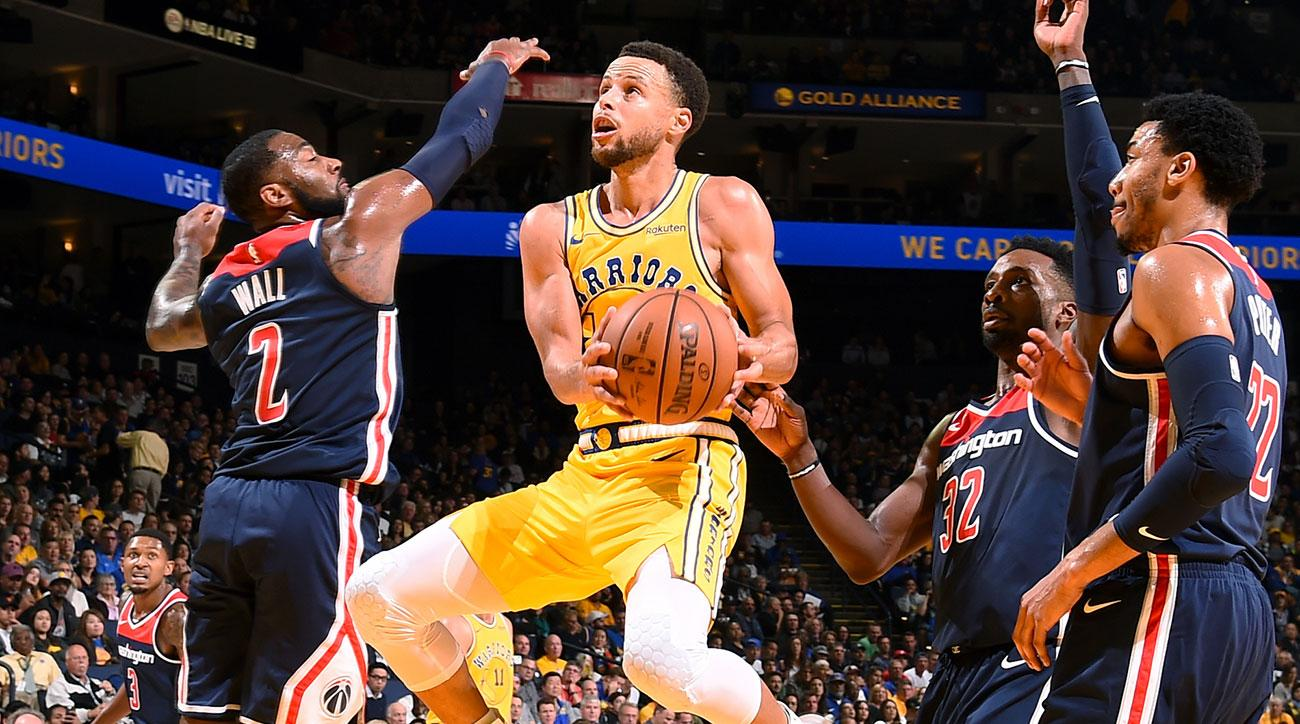Basketball: (597, 287, 738, 427)
